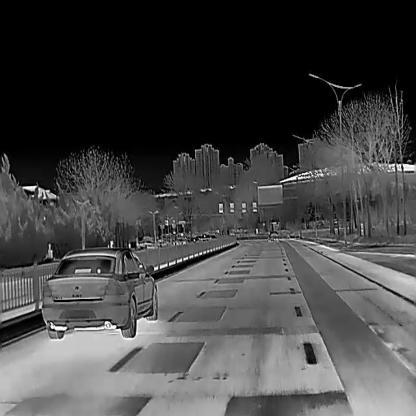car: (40, 247, 159, 338), (266, 230, 281, 242)
